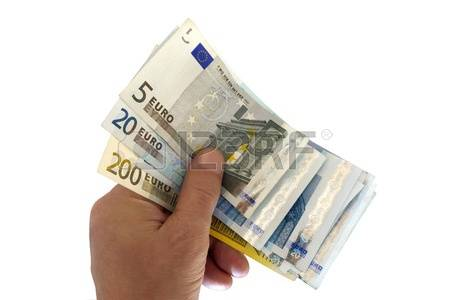billete: (95, 16, 385, 294)
